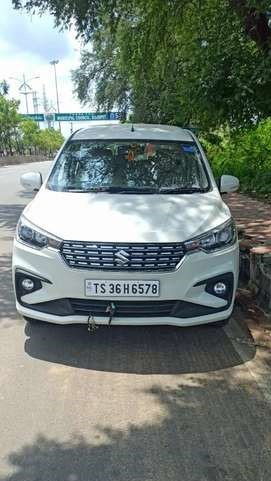TS36H6578: (86, 279, 160, 296)
